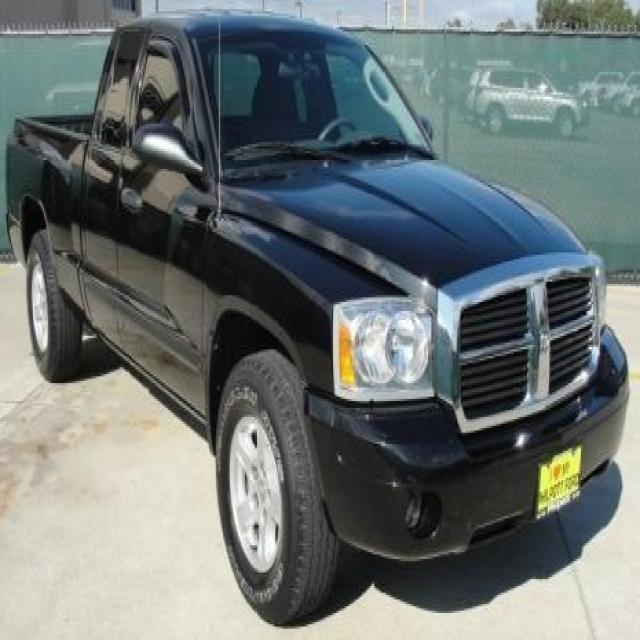CMT: (12, 11, 624, 615)
